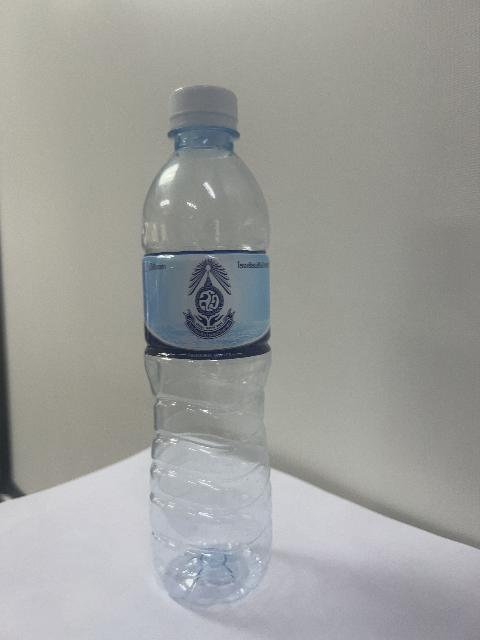bottle: (143, 86, 271, 605)
